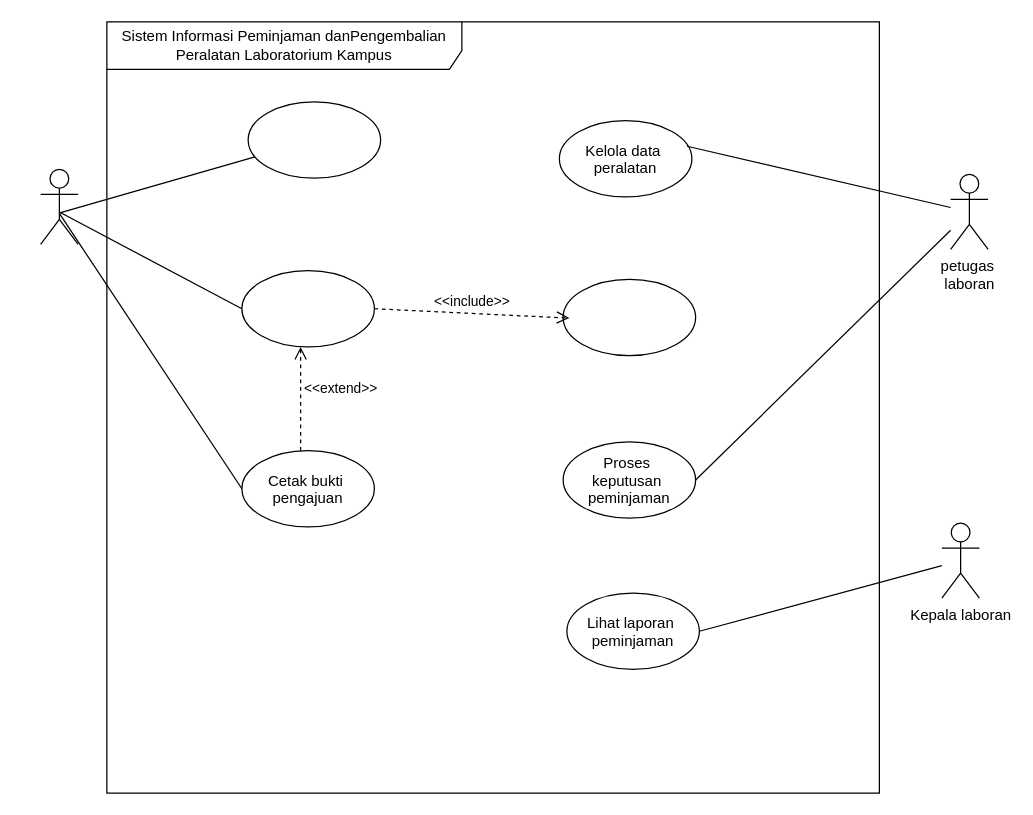
The diagram is 1033 pixels wide and 815 high, and some of its shapes have lost their labels. Here are the shapes that lost their labels. From the top down, the centre of each, then its label:
(x=314, y=139): Lihat ketersediaan peralatan
(x=58, y=206): Mahasiswa
(x=307, y=308): Ajukan Peminjaman
(x=629, y=317): Periksa ketersediaan
